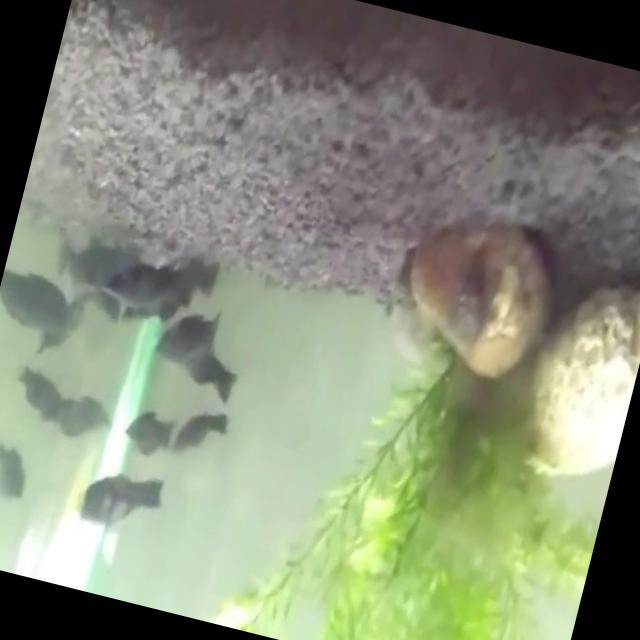PlatyFish: (118, 392, 184, 472)
